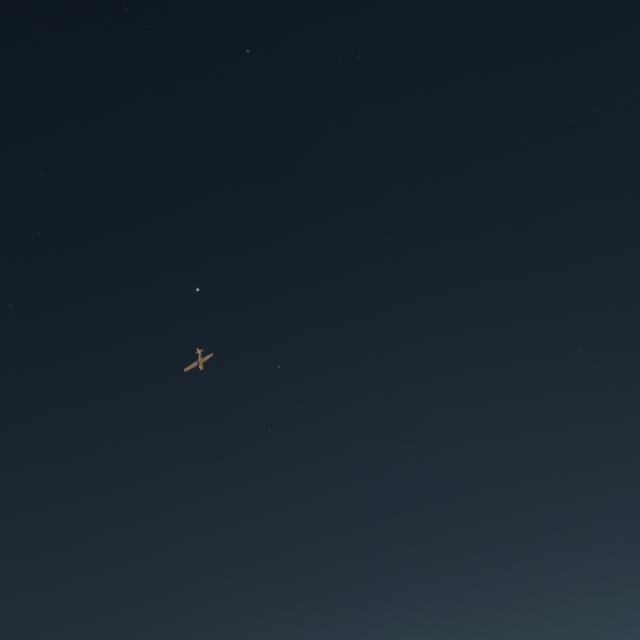Airaplan: (184, 348, 213, 371)
